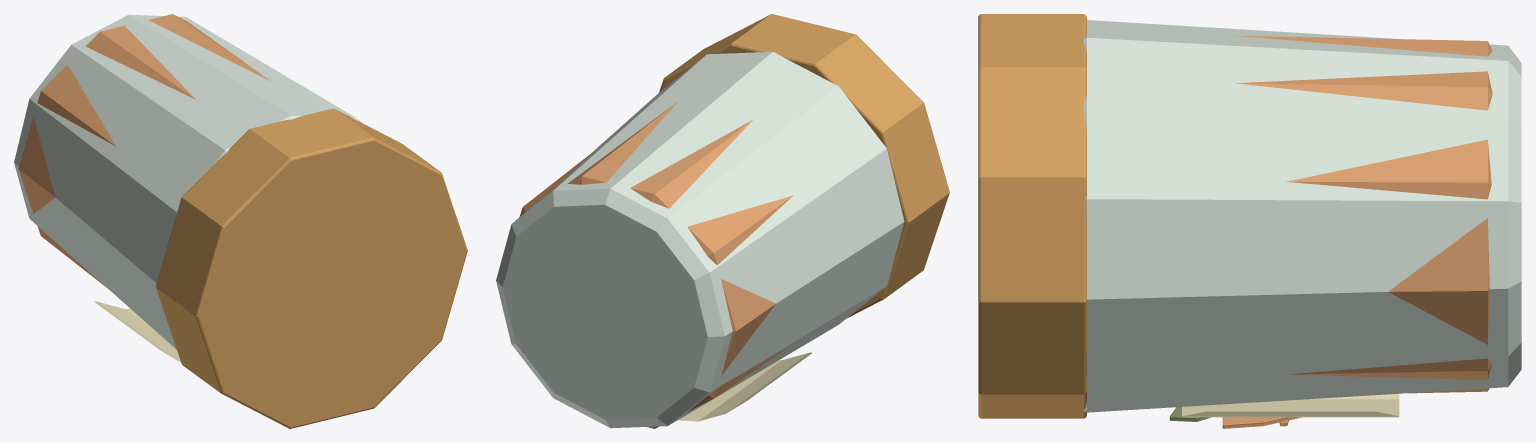
The model's file is baby_food.glb.
The picture shows the model from 3 angles, left to right: view 1: azimuth 30°, elevation 25°; view 2: azimuth 150°, elevation 25°; view 3: azimuth 270°, elevation 25°; orthographic projection. The views are drawn at different scales.
Parts seen in each view (by area): view 1: baby_food; view 2: baby_food; view 3: baby_food.
Boxes of the visible parts, <box> form: baby_food: <box>14,14,467,428</box>; baby_food: <box>496,14,949,428</box>; baby_food: <box>978,14,1521,428</box>.
Bounding box in the file's own units: 0.06 × 0.061 × 0.08.
